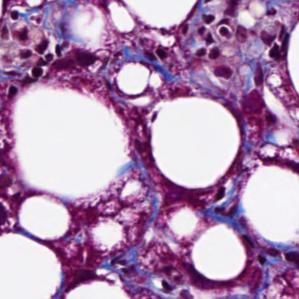inflammation: (4, 15, 92, 79), (186, 9, 240, 72)
